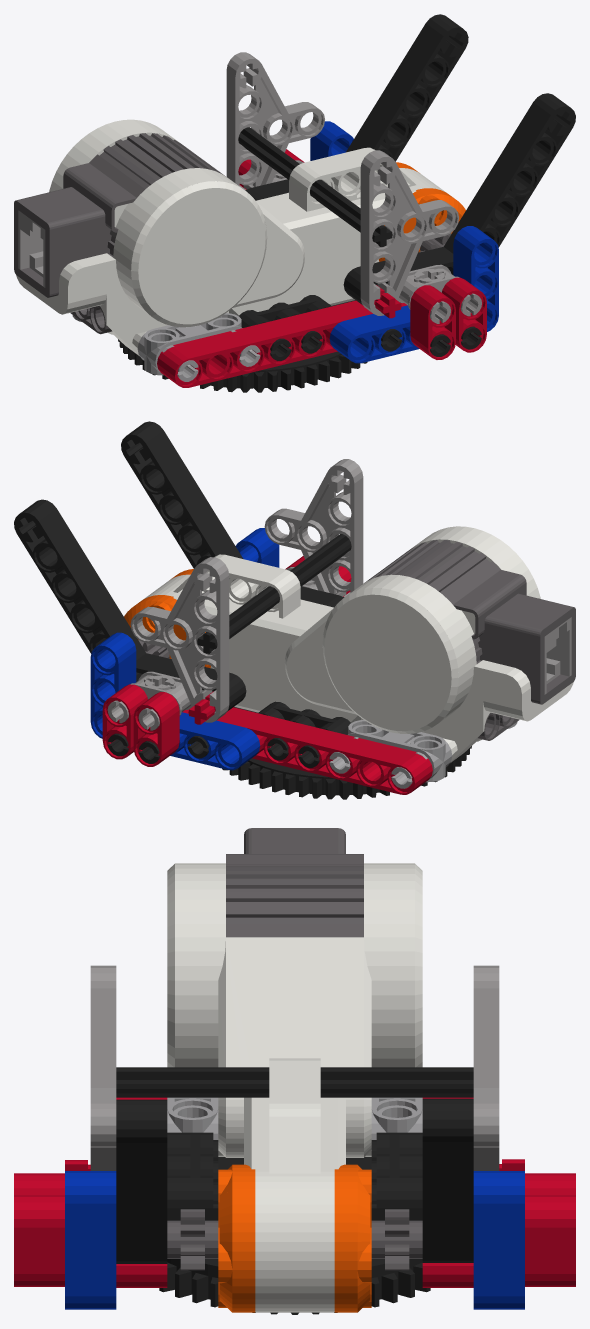
File: Eslabon1.obj
3 renders of one model, top to bottom at view 1: azimuth 30°, elevation 25°; view 2: azimuth 150°, elevation 25°; view 3: azimuth 270°, elevation 25°, orthographic. The views are drawn at different scales.
Visible parts, largest first — view 1: default; view 2: default; view 3: default.
Boxes of the visible parts, bbox=[...] form: default: bbox=[14, 14, 575, 392]; default: bbox=[14, 421, 575, 799]; default: bbox=[14, 828, 575, 1314].
Bounding box in the file's own units: 1.23 × 0.5276 × 0.8661.
